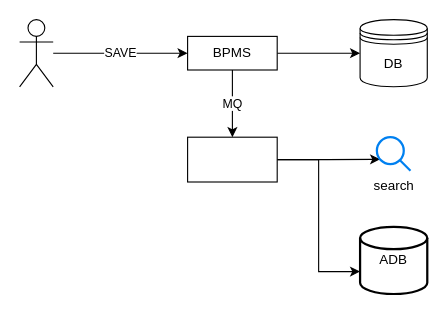
Image size: 448x315. Some labels were removed from this diagram. Here are the shapes that lost their labels. From the top down, the centre of each, then its label:
(35,52): Actor
(231,159): ddpaas
